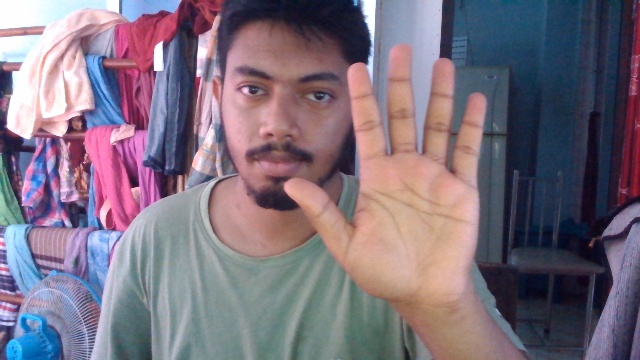hello: (287, 32, 486, 305)
